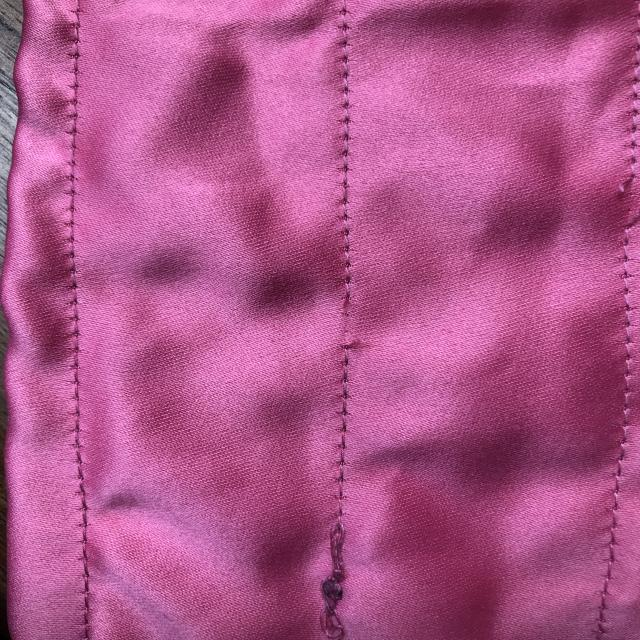broken: (321, 279, 379, 359)
